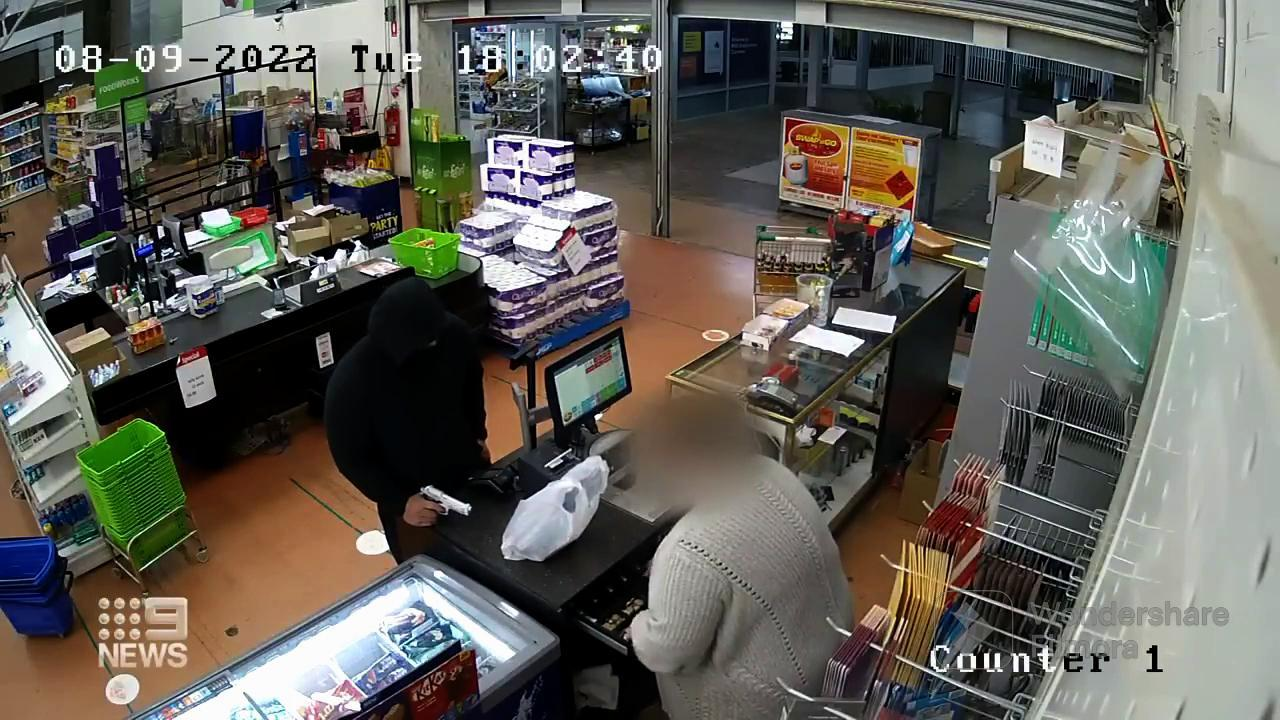gun: (411, 476, 476, 528)
